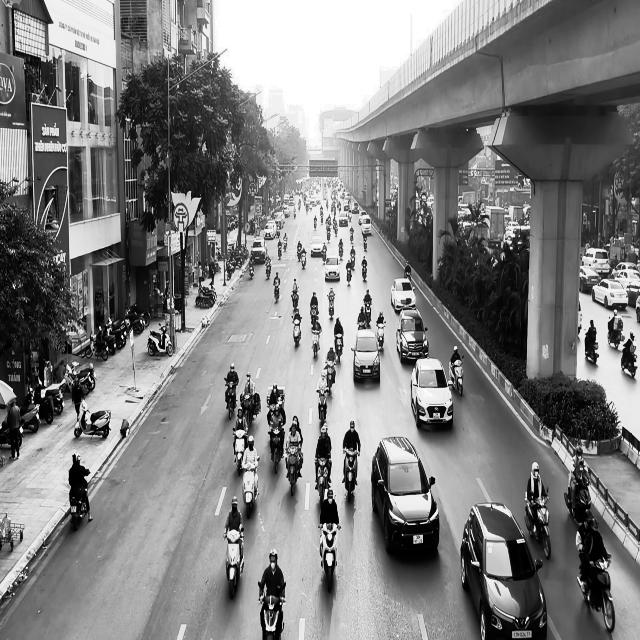car: (460, 502, 547, 640), (370, 436, 440, 554), (410, 358, 453, 430), (396, 307, 429, 364), (351, 328, 380, 384), (390, 277, 416, 312), (324, 256, 340, 280), (310, 236, 323, 255)
motorbike: (576, 553, 615, 633), (524, 487, 551, 559), (257, 580, 286, 640), (318, 523, 341, 592), (223, 527, 245, 599), (74, 398, 111, 438), (241, 458, 260, 518), (69, 478, 89, 530), (314, 454, 332, 508), (285, 443, 303, 496), (342, 447, 359, 502), (147, 322, 173, 357), (268, 423, 284, 474), (232, 428, 248, 476), (448, 355, 464, 396), (621, 341, 637, 377), (583, 329, 599, 364), (224, 378, 237, 419), (316, 387, 328, 422), (325, 359, 336, 392), (292, 316, 302, 347), (311, 327, 321, 358), (334, 332, 343, 362), (376, 321, 385, 349), (327, 293, 335, 319), (290, 288, 298, 310), (273, 281, 281, 303), (265, 257, 271, 279)
